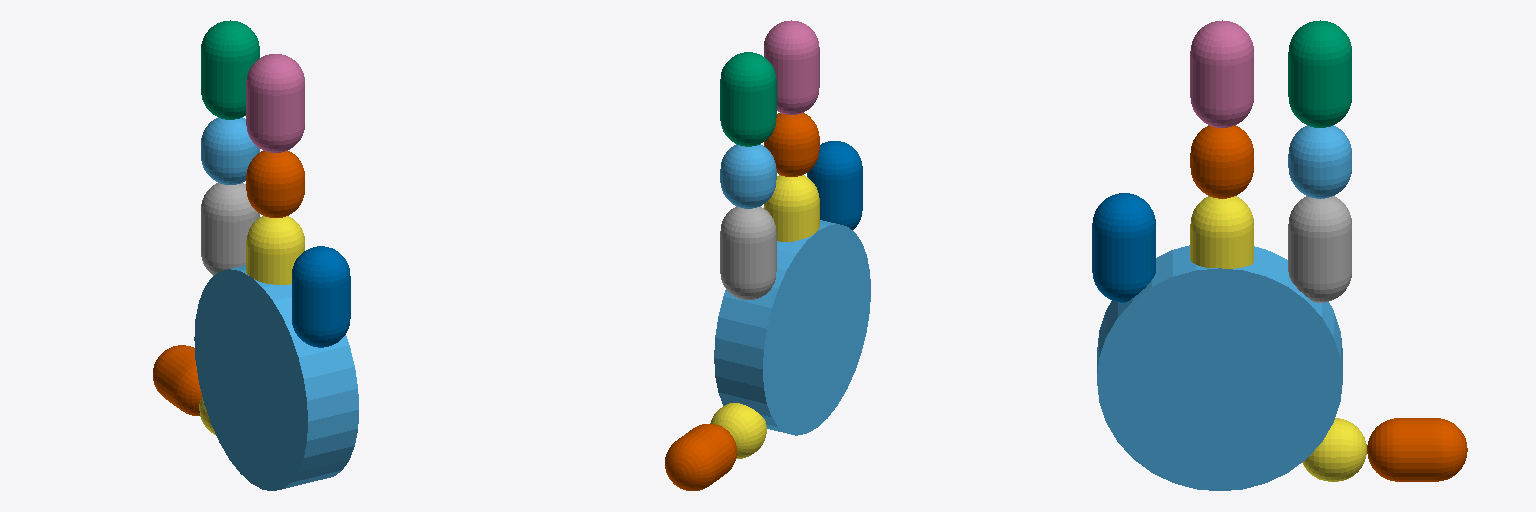
URDF robot description (DexterousHand):
<?xml version="1.0"?>
<robot name="DexterousHand">


    <link name="world"/>
    <joint name="world_to_palm" type="fixed">
        <parent link="world"/>
        <child link="palm"/>
        <origin xyz="0 0 0" rpy="0 0 0"/>
    </joint>
    <link name="palm">
        <inertial>
            <origin xyz="0 0 0.057" rpy="0 0 0"/>
            <mass value="0.30212892864"/>
            <inertia ixx="0.00049080844457568" ixy="0.0" ixz="0.0" iyy="0.00026746366246427523" iyz="0.0" izz="0.00026746366246427523"/>
        </inertial>
        <visual>
            <origin xyz="0 0 0.057" rpy="1.5708 0 1.5708"/>
            <geometry>
                <cylinder radius="0.057" length="0.0296"/>
            </geometry>
            <material name="default"/>
        </visual>
        <collision>
            <origin xyz="0 0 0.057" rpy="1.5708 0 1.5708"/>
            <geometry>
                <cylinder radius="0.057" length="0.0296"/>
            </geometry>
        </collision>
    </link>

    
    <joint name="thumb_joint1" type="revolute">
        <parent link="palm"/>
        <child link="thumb_base"/>
        <origin xyz="0.0029 0.0368 0.0157" rpy="-1.5708 -1.5708 0.0"/>
        <axis xyz="-1 0 0"/>
        <limit lower="-0.349" upper="2.094" effort="1.0" velocity="1.0"/>
    </joint>

    <link name="thumb_base"></link>

    <joint name="thumb_joint2" type="revolute">
        <parent link="thumb_base"/>
        <child link="thumb_proximal"/>
        <origin xyz="0.0 0.0 0.0" rpy="0.0 0.0 0.0"/>
        <axis xyz="0 0 1"/>
        <limit lower="-0.47" upper="2.443" effort="1.0" velocity="1.0"/>
    </joint>

    <link name="thumb_proximal">
        <inertial>
            <origin xyz="0 0 0.01565" rpy="0 0 0"/>
            <mass value="0.021538658803200002"/>
            <inertia ixx="2.9378910096388167e-06" ixy="0.0" ixz="0.0" 
            iyy="2.9378910096388167e-06" iyz="0.0" izz="2.358913912126464e-06"/>
        </inertial>
        <visual>
            <origin xyz="0 0 0.01565" rpy="0 0 0"/>
            <geometry>
                <cylinder radius="0.0148" length="0.0017000000000000001"/>
            </geometry>
            <material name="default"/>
        </visual>
        <visual>
            <origin xyz="0 0 0.0148" rpy="0 0 0"/>
            <geometry>
                <sphere radius="0.0148"/>
            </geometry>
            <material name="default"/>
        </visual>
        <visual>
            <origin xyz="0 0 0.0165" rpy="0 0 0"/>
            <geometry>
                <sphere radius="0.0148"/>
            </geometry>
            <material name="default"/>
        </visual>
        <collision>
            <origin xyz="0 0 0.01565" rpy="0 0 0"/>
            <geometry>
                <cylinder radius="0.0148" length="0.0017000000000000001"/>
            </geometry>
        </collision>
        <collision>
            <origin xyz="0 0 0.0148" rpy="0 0 0"/>
            <geometry>
                <sphere radius="0.0148"/>
            </geometry>
        </collision>
        <collision>
            <origin xyz="0 0 0.0165" rpy="0 0 0"/>
            <geometry>
                <sphere radius="0.0148"/>
            </geometry>
        </collision>
    </link>

    <joint name="thumb_joint3" type="revolute">
        <parent link="thumb_proximal"/>
        <child link="thumb_knuckle"/>
        <origin xyz="0.0 0.0 0.0313" rpy="0.0 0.0 0.0"/>
        <axis xyz="1 0 0"/>
        <limit lower="0.0" upper="0.0" effort="1.0" velocity="1.0"/>
    </joint>

    <link name="thumb_knuckle"></link>

    <joint name="thumb_joint4" type="revolute">
        <parent link="thumb_knuckle"/>
        <child link="thumb_middle"/>
        <origin xyz="0 0 0" rpy="0 0 0"/> 
        <axis xyz="0 1 0"/>
        <limit lower="-1.2" upper="1.9" effort="1.0" velocity="1.0"/>
    </joint>

    <link name="thumb_middle">
        <inertial>
            <origin xyz="0 0 0.0233" rpy="0 0 0"/>
            <mass value="0.032067140582400004"/>
            <inertia ixx="7.5589732685519385e-06" ixy="0.0" ixz="0.0" 
            iyy="7.5589732685519385e-06" iyz="0.0" izz="3.5119932365844485e-06"/>
        </inertial>
        <visual>
            <origin xyz="0 0 0.0233" rpy="0 0 0"/>
            <geometry>
                <cylinder radius="0.0148" length="0.017"/>
            </geometry>
            <material name="default"/>
        </visual>
        <visual>
            <origin xyz="0 0 0.0148" rpy="0 0 0"/>
            <geometry>
                <sphere radius="0.0148"/>
            </geometry>
            <material name="default"/>
        </visual>
        <visual>
            <origin xyz="0 0 0.0318" rpy="0 0 0"/>
            <geometry>
                <sphere radius="0.0148"/>
            </geometry>
            <material name="default"/>
        </visual>
        <collision>
            <origin xyz="0 0 0.0233" rpy="0 0 0"/>
            <geometry>
                <cylinder radius="0.0148" length="0.017"/>
            </geometry>
        </collision>
        <collision>
            <origin xyz="0 0 0.0148" rpy="0 0 0"/>
            <geometry>
                <sphere radius="0.0148"/>
            </geometry>
        </collision>
        <collision>
            <origin xyz="0 0 0.0318" rpy="0 0 0"/>
            <geometry>
                <sphere radius="0.0148"/>
            </geometry>
        </collision>
    </link>

    <joint name="thumb_joint5" type="revolute">
        <parent link="thumb_middle"/>
        <child link="thumb_distal"/>
        <origin xyz="0 0 0.0466" rpy="0 0 0"/> 
        <axis xyz="0 1 0"/>
        <limit lower="0.0" upper="0.0" effort="1.0" velocity="1.0"/>
    </joint>

    <link name="thumb_distal">
    </link>

    
    <joint name="index_joint1" type="revolute">
        <parent link="palm"/>
        <child link="index_proximal"/>
        <origin xyz="0.0 0.0465 0.091" rpy="0.0 0.0 0.0"/>
        <axis xyz="0 1 0"/>
        <limit lower="-0.314" upper="2.23" effort="1.0" velocity="1.0"/>
    </joint>

    <link name="index_proximal">
        <inertial>
            <origin xyz="0 0 0.02655" rpy="0 0 0"/>
            <mass value="0.036540024998400006"/>
            <inertia ixx="1.058665009272394e-05" ixy="0.0" ixz="0.0" 
            iyy="1.058665009272394e-05" iyz="0.0" izz="4.001863537824769e-06"/>
        </inertial>
        <visual>
            <origin xyz="0 0 0.02655" rpy="0 0 0"/>
            <geometry>
                <cylinder radius="0.0148" length="0.0235"/>
            </geometry>
            <material name="default"/>
        </visual>
        <visual>
            <origin xyz="0 0 0.0148" rpy="0 0 0"/>
            <geometry>
                <sphere radius="0.0148"/>
            </geometry>
            <material name="default"/>
        </visual>
        <visual>
            <origin xyz="0 0 0.0383" rpy="0 0 0"/>
            <geometry>
                <sphere radius="0.0148"/>
            </geometry>
            <material name="default"/>
        </visual>
        <collision>
            <origin xyz="0 0 0.02655" rpy="0 0 0"/>
            <geometry>
                <cylinder radius="0.0148" length="0.0235"/>
            </geometry>
        </collision>
        <collision>
            <origin xyz="0 0 0.0148" rpy="0 0 0"/>
            <geometry>
                <sphere radius="0.0148"/>
            </geometry>
        </collision>
        <collision>
            <origin xyz="0 0 0.0383" rpy="0 0 0"/>
            <geometry>
                <sphere radius="0.0148"/>
            </geometry>
        </collision>
    </link>

    <joint name="index_joint2" type="revolute">
        <parent link="index_proximal"/>
        <child link="index_dummy"/>
        <origin xyz="0.0 0.0 0.038" rpy="0.0 0.0 0.0"/>
        <axis xyz="1 0 0"/>
        <limit lower="-1.047" upper="1.047" effort="1.0" velocity="1.0"/>
    </joint>

    <link name="index_dummy"></link>

    <joint name="index_joint3" type="revolute">
        <parent link="index_dummy"/>
        <child link="index_middle"/>
        <origin xyz="0 0 0.015100000000000002" rpy="0 0 0"/>
        <axis xyz="0 1 0"/>
        <limit lower="-0.506" upper="1.885" effort="1.0" velocity="1.0"/>
    </joint>

    <link name="index_middle">
        <inertial>
            <origin xyz="0 0 0.01805" rpy="0 0 0"/>
            <mass value="0.0248417119104"/>
            <inertia ixx="4.058162759109537e-06" ixy="0.0" ixz="0.0" 
            iyy="4.058162759109537e-06" iyz="0.0" izz="2.7206642884270085e-06"/>
        </inertial>
        <visual>
            <origin xyz="0 0 0.01805" rpy="0 0 0"/>
            <geometry>
                <cylinder radius="0.0148" length="0.006499999999999999"/>
            </geometry>
            <material name="default"/>
        </visual>
        <visual>
            <origin xyz="0 0 0.0148" rpy="0 0 0"/>
            <geometry>
                <sphere radius="0.0148"/>
            </geometry>
            <material name="default"/>
        </visual>
        <visual>
            <origin xyz="0 0 0.0213" rpy="0 0 0"/>
            <geometry>
                <sphere radius="0.0148"/>
            </geometry>
            <material name="default"/>
        </visual>
        <collision>
            <origin xyz="0 0 0.01805" rpy="0 0 0"/>
            <geometry>
                <cylinder radius="0.0148" length="0.006499999999999999"/>
            </geometry>
        </collision>
        <collision>
            <origin xyz="0 0 0.0148" rpy="0 0 0"/>
            <geometry>
                <sphere radius="0.0148"/>
            </geometry>
        </collision>
        <collision>
            <origin xyz="0 0 0.0213" rpy="0 0 0"/>
            <geometry>
                <sphere radius="0.0148"/>
            </geometry>
        </collision>
    </link>

    <joint name="index_joint4" type="revolute">
        <parent link="index_middle"/>
        <child link="index_distal"/>
        <origin xyz="0 0 0.0361" rpy="0 0 0"/> 
        <axis xyz="0 1 0"/>
        <limit lower="-0.366" upper="2.042" effort="1.0" velocity="1.0"/>
    </joint>

    <link name="index_distal">
        <inertial>
            <origin xyz="0 0 0.026" rpy="0 0 0"/>
            <mass value="0.035783075328"/>
            <inertia ixx="1.002260084553728e-05" ixy="0.0" ixz="0.0" 
            iyy="1.002260084553728e-05" iyz="0.0" izz="3.91896240992256e-06"/>
        </inertial>
        <visual>
            <origin xyz="0 0 0.026" rpy="0 0 0"/>
            <geometry>
                <cylinder radius="0.0148" length="0.022399999999999996"/>
            </geometry>
            <material name="default"/>
        </visual>
        <visual>
            <origin xyz="0 0 0.0148" rpy="0 0 0"/>
            <geometry>
                <sphere radius="0.0148"/>
            </geometry>
            <material name="default"/>
        </visual>
        <visual>
            <origin xyz="0 0 0.0372" rpy="0 0 0"/>
            <geometry>
                <sphere radius="0.0148"/>
            </geometry>
            <material name="default"/>
        </visual>
        <collision>
            <origin xyz="0 0 0.026" rpy="0 0 0"/>
            <geometry>
                <cylinder radius="0.0148" length="0.022399999999999996"/>
            </geometry>
        </collision>
        <collision>
            <origin xyz="0 0 0.0148" rpy="0 0 0"/>
            <geometry>
                <sphere radius="0.0148"/>
            </geometry>
        </collision>
        <collision>
            <origin xyz="0 0 0.0372" rpy="0 0 0"/>
            <geometry>
                <sphere radius="0.0148"/>
            </geometry>
        </collision>
    </link>

    
    <joint name="middle_joint1" type="revolute">
        <parent link="palm"/>
        <child link="middle_proximal"/>
        <origin xyz="0.0 0.0011 0.091" rpy="0.0 0.0 0.0"/>
        <axis xyz="0 1 0"/>
        <limit lower="-0.314" upper="2.23" effort="1.0" velocity="1.0"/>
    </joint>

    <link name="middle_proximal">
        <inertial>
            <origin xyz="0 0 0.02655" rpy="0 0 0"/>
            <mass value="0.036540024998400006"/>
            <inertia ixx="1.058665009272394e-05" ixy="0.0" ixz="0.0" 
            iyy="1.058665009272394e-05" iyz="0.0" izz="4.001863537824769e-06"/>
        </inertial>
        <visual>
            <origin xyz="0 0 0.02655" rpy="0 0 0"/>
            <geometry>
                <cylinder radius="0.0148" length="0.0235"/>
            </geometry>
            <material name="default"/>
        </visual>
        <visual>
            <origin xyz="0 0 0.0148" rpy="0 0 0"/>
            <geometry>
                <sphere radius="0.0148"/>
            </geometry>
            <material name="default"/>
        </visual>
        <visual>
            <origin xyz="0 0 0.0383" rpy="0 0 0"/>
            <geometry>
                <sphere radius="0.0148"/>
            </geometry>
            <material name="default"/>
        </visual>
        <collision>
            <origin xyz="0 0 0.02655" rpy="0 0 0"/>
            <geometry>
                <cylinder radius="0.0148" length="0.0235"/>
            </geometry>
        </collision>
        <collision>
            <origin xyz="0 0 0.0148" rpy="0 0 0"/>
            <geometry>
                <sphere radius="0.0148"/>
            </geometry>
        </collision>
        <collision>
            <origin xyz="0 0 0.0383" rpy="0 0 0"/>
            <geometry>
                <sphere radius="0.0148"/>
            </geometry>
        </collision>
    </link>

    <joint name="middle_joint2" type="revolute">
        <parent link="middle_proximal"/>
        <child link="middle_dummy"/>
        <origin xyz="0.0 0.0 0.038" rpy="0.0 0.0 0.0"/>
        <axis xyz="1 0 0"/>
        <limit lower="-1.047" upper="1.047" effort="1.0" velocity="1.0"/>
    </joint>

    <link name="middle_dummy"></link>

    <joint name="middle_joint3" type="revolute">
        <parent link="middle_dummy"/>
        <child link="middle_middle"/>
        <origin xyz="0 0 0.015100000000000002" rpy="0 0 0"/>
        <axis xyz="0 1 0"/>
        <limit lower="-0.506" upper="1.885" effort="1.0" velocity="1.0"/>
    </joint>

    <link name="middle_middle">
        <inertial>
            <origin xyz="0 0 0.01805" rpy="0 0 0"/>
            <mass value="0.0248417119104"/>
            <inertia ixx="4.058162759109537e-06" ixy="0.0" ixz="0.0" 
            iyy="4.058162759109537e-06" iyz="0.0" izz="2.7206642884270085e-06"/>
        </inertial>
        <visual>
            <origin xyz="0 0 0.01805" rpy="0 0 0"/>
            <geometry>
                <cylinder radius="0.0148" length="0.006499999999999999"/>
            </geometry>
            <material name="default"/>
        </visual>
        <visual>
            <origin xyz="0 0 0.0148" rpy="0 0 0"/>
            <geometry>
                <sphere radius="0.0148"/>
            </geometry>
            <material name="default"/>
        </visual>
        <visual>
            <origin xyz="0 0 0.0213" rpy="0 0 0"/>
            <geometry>
                <sphere radius="0.0148"/>
            </geometry>
            <material name="default"/>
        </visual>
        <collision>
            <origin xyz="0 0 0.01805" rpy="0 0 0"/>
            <geometry>
                <cylinder radius="0.0148" length="0.006499999999999999"/>
            </geometry>
        </collision>
        <collision>
            <origin xyz="0 0 0.0148" rpy="0 0 0"/>
            <geometry>
                <sphere radius="0.0148"/>
            </geometry>
        </collision>
        <collision>
            <origin xyz="0 0 0.0213" rpy="0 0 0"/>
            <geometry>
                <sphere radius="0.0148"/>
            </geometry>
        </collision>
    </link>

    <joint name="middle_joint4" type="revolute">
        <parent link="middle_middle"/>
        <child link="middle_distal"/>
        <origin xyz="0 0 0.0361" rpy="0 0 0"/> 
        <axis xyz="0 1 0"/>
        <limit lower="-0.366" upper="2.042" effort="1.0" velocity="1.0"/>
    </joint>

    <link name="middle_distal">
        <inertial>
            <origin xyz="0 0 0.026" rpy="0 0 0"/>
            <mass value="0.035783075328"/>
            <inertia ixx="1.002260084553728e-05" ixy="0.0" ixz="0.0" 
            iyy="1.002260084553728e-05" iyz="0.0" izz="3.91896240992256e-06"/>
        </inertial>
        <visual>
            <origin xyz="0 0 0.026" rpy="0 0 0"/>
            <geometry>
                <cylinder radius="0.0148" length="0.022399999999999996"/>
            </geometry>
            <material name="default"/>
        </visual>
        <visual>
            <origin xyz="0 0 0.0148" rpy="0 0 0"/>
            <geometry>
                <sphere radius="0.0148"/>
            </geometry>
            <material name="default"/>
        </visual>
        <visual>
            <origin xyz="0 0 0.0372" rpy="0 0 0"/>
            <geometry>
                <sphere radius="0.0148"/>
            </geometry>
            <material name="default"/>
        </visual>
        <collision>
            <origin xyz="0 0 0.026" rpy="0 0 0"/>
            <geometry>
                <cylinder radius="0.0148" length="0.022399999999999996"/>
            </geometry>
        </collision>
        <collision>
            <origin xyz="0 0 0.0148" rpy="0 0 0"/>
            <geometry>
                <sphere radius="0.0148"/>
            </geometry>
        </collision>
        <collision>
            <origin xyz="0 0 0.0372" rpy="0 0 0"/>
            <geometry>
                <sphere radius="0.0148"/>
            </geometry>
        </collision>
    </link>

    
    <joint name="ring_joint1" type="revolute">
        <parent link="palm"/>
        <child link="ring_proximal"/>
        <origin xyz="0.0 0.0 0.0" rpy="0.0 0.0 0.0"/>
        <axis xyz="1 0 0"/>
        <limit lower="0.0" upper="0.0" effort="1.0" velocity="1.0"/>
    </joint>

    <link name="ring_proximal">
    </link>

    <joint name="ring_joint2" type="revolute">
        <parent link="ring_proximal"/>
        <child link="ring_dummy"/>
        <origin xyz="0.0 0.0 0.0" rpy="0.0 0.0 0.0"/>
        <axis xyz="0 1 0"/>
        <limit lower="0.0" upper="0.0" effort="1.0" velocity="1.0"/>
    </joint>

    <link name="ring_dummy"></link>

    <joint name="ring_joint3" type="revolute">
        <parent link="ring_dummy"/>
        <child link="ring_middle"/>
        <origin xyz="0 0 0" rpy="0 0 0"/>
        <axis xyz="0 1 0"/>
        <limit lower="0.0" upper="0.0" effort="1.0" velocity="1.0"/>
    </joint>

    <link name="ring_middle">
    </link>

    <joint name="ring_joint4" type="revolute">
        <parent link="ring_middle"/>
        <child link="ring_distal"/>
        <origin xyz="0 0 0" rpy="0 0 0"/> 
        <axis xyz="0 1 0"/>
        <limit lower="0.0" upper="0.0" effort="1.0" velocity="1.0"/>
    </joint>

    <link name="ring_distal">
    </link>

    
    <joint name="little_joint0" type="revolute">
        <parent link="palm"/>
        <child link="little_base"/>
        <origin xyz="0.0 0.0 0.0" rpy="0.0 0.0 0.0"/>
        <axis xyz="0 1 0"/>
        <limit lower="0.0" upper="0.0" effort="1.0" velocity="1.0"/>
    </joint>

    <link name="little_base"></link>

    <joint name="little_joint1" type="revolute">
        <parent link="little_base"/>
        <child link="little_proximal"/>
        <origin xyz="0.0 -0.0443 0.091" rpy="-0.0 -0.0 -0.0"/>
        <axis xyz="0 1 0"/>
        <limit lower="-0.314" upper="2.23" effort="1.0" velocity="1.0"/>
    </joint>

    <link name="little_proximal">
        <inertial>
            <origin xyz="0 0 0.02655" rpy="0 0 0"/>
            <mass value="0.036540024998400006"/>
            <inertia ixx="1.058665009272394e-05" ixy="0.0" ixz="0.0" 
            iyy="1.058665009272394e-05" iyz="0.0" izz="4.001863537824769e-06"/>
        </inertial>
        <visual>
            <origin xyz="0 0 0.02655" rpy="0 0 0"/>
            <geometry>
                <cylinder radius="0.0148" length="0.0235"/>
            </geometry>
            <material name="default"/>
        </visual>
        <visual>
            <origin xyz="0 0 0.0148" rpy="0 0 0"/>
            <geometry>
                <sphere radius="0.0148"/>
            </geometry>
            <material name="default"/>
        </visual>
        <visual>
            <origin xyz="0 0 0.0383" rpy="0 0 0"/>
            <geometry>
                <sphere radius="0.0148"/>
            </geometry>
            <material name="default"/>
        </visual>
        <collision>
            <origin xyz="0 0 0.02655" rpy="0 0 0"/>
            <geometry>
                <cylinder radius="0.0148" length="0.0235"/>
            </geometry>
        </collision>
        <collision>
            <origin xyz="0 0 0.0148" rpy="0 0 0"/>
            <geometry>
                <sphere radius="0.0148"/>
            </geometry>
        </collision>
        <collision>
            <origin xyz="0 0 0.0383" rpy="0 0 0"/>
            <geometry>
                <sphere radius="0.0148"/>
            </geometry>
        </collision>
    </link>

    <joint name="little_joint2" type="revolute">
        <parent link="little_proximal"/>
        <child link="little_dummy"/>
        <origin xyz="0.0 0.0 0.038" rpy="0.0 0.0 0.0"/>
        <axis xyz="0 1 0"/>
        <limit lower="0.0" upper="0.0" effort="1.0" velocity="1.0"/>
    </joint>

    <link name="little_dummy"></link>

    <joint name="little_joint3" type="revolute">
        <parent link="little_dummy"/>
        <child link="little_middle"/>
        <origin xyz="0 0 0.015100000000000002" rpy="0 0 0"/>
        <axis xyz="0 1 0"/>
        <limit lower="0.0" upper="0.0" effort="1.0" velocity="1.0"/>
    </joint>

    <link name="little_middle">
    </link>

    <joint name="little_joint4" type="revolute">
        <parent link="little_middle"/>
        <child link="little_distal"/>
        <origin xyz="0 0 0" rpy="0 0 0"/>
        <axis xyz="0 1 0"/>
        <limit lower="0.0" upper="0.0" effort="1.0" velocity="1.0"/>
    </joint>

    <link name="little_distal">
    </link>

</robot>

--- Facts derived from the render (not from the file) ---
3 views of the same robot in one strip: view 1: azimuth 30°, elevation 25°; view 2: azimuth 150°, elevation 25°; view 3: azimuth 270°, elevation 25° (orthographic).
Robot: DexterousHand — 24 links, 23 joints (22 revolute, 1 fixed); root link world; default pose: all joints at 0.
Links seen in each view (by area): view 1: palm, little_proximal, middle_distal, index_distal, index_proximal, middle_middle, middle_proximal, index_middle, thumb_middle; view 2: palm, index_proximal, index_distal, middle_distal, little_proximal, thumb_middle, index_middle, middle_proximal, middle_middle, thumb_proximal; view 3: palm, middle_distal, index_distal, little_proximal, index_proximal, thumb_middle, middle_proximal, middle_middle, index_middle, thumb_proximal.
Boxes of the visible links, box(x1,y1,x2,y2) form: palm: box(194, 265, 358, 490); little_proximal: box(292, 246, 350, 347); middle_distal: box(246, 54, 304, 152); index_distal: box(201, 20, 259, 119); index_proximal: box(201, 183, 259, 275); middle_middle: box(246, 151, 304, 217); middle_proximal: box(246, 216, 304, 284); index_middle: box(201, 117, 259, 184); thumb_middle: box(153, 345, 201, 415); palm: box(714, 220, 870, 435); index_proximal: box(720, 206, 776, 299); index_distal: box(720, 52, 776, 146); middle_distal: box(764, 20, 819, 114); little_proximal: box(807, 141, 862, 229); thumb_middle: box(665, 424, 736, 490); index_middle: box(720, 144, 776, 208); middle_proximal: box(764, 175, 819, 241); middle_middle: box(764, 113, 819, 176); thumb_proximal: box(710, 403, 766, 458); palm: box(1097, 245, 1342, 490); middle_distal: box(1190, 20, 1253, 127); index_distal: box(1288, 20, 1351, 127); little_proximal: box(1092, 193, 1155, 302); index_proximal: box(1288, 196, 1351, 302); thumb_middle: box(1367, 418, 1467, 481); middle_proximal: box(1190, 196, 1253, 268); middle_middle: box(1190, 125, 1253, 198); index_middle: box(1288, 125, 1351, 198); thumb_proximal: box(1302, 418, 1366, 481).
Bounding box of the posed robot: 0.0325 × 0.1738 × 0.2322 m (x, y, z).
Geometry: primitives only (box / cylinder / sphere), no mesh files.
